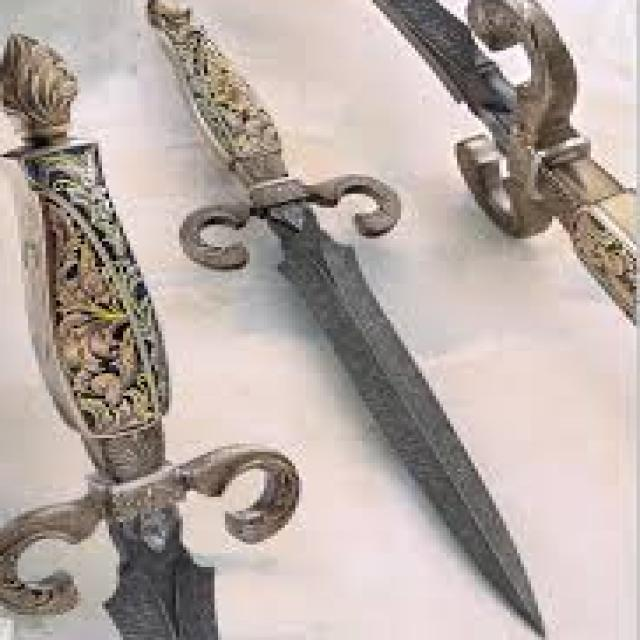Gun: (105, 0, 562, 640), (1, 11, 330, 640), (320, 0, 640, 314)
